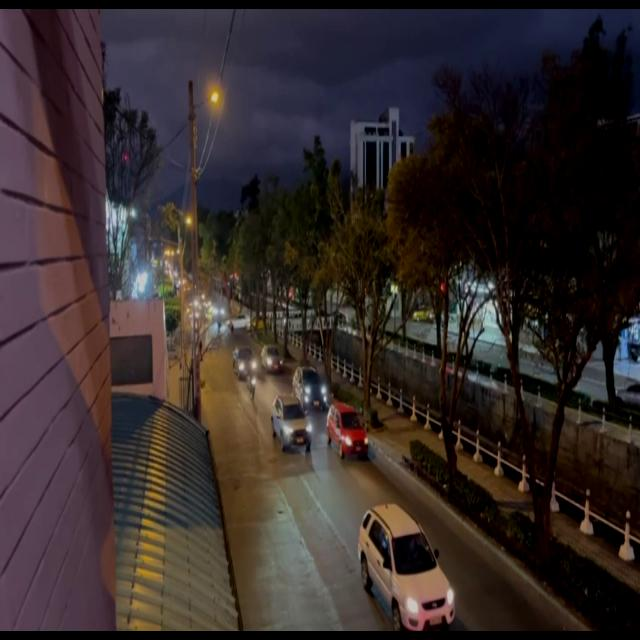SED: (327, 401, 362, 451)
SUV: (273, 397, 308, 453), (296, 369, 328, 409)
